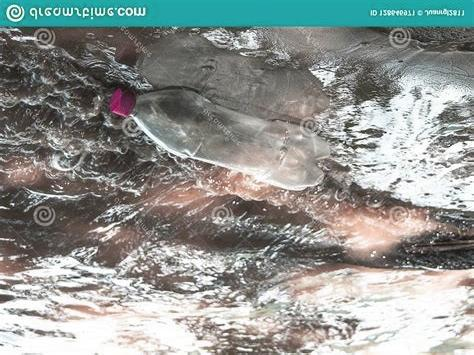Plastic: (107, 85, 334, 192)
